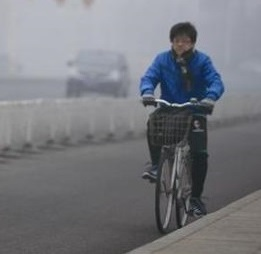person: (141, 19, 224, 232)
